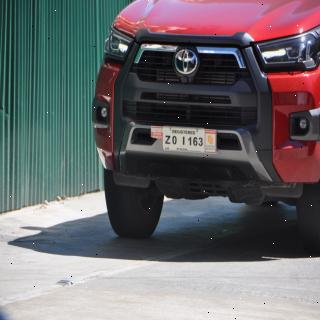license: (164, 127, 206, 153)
